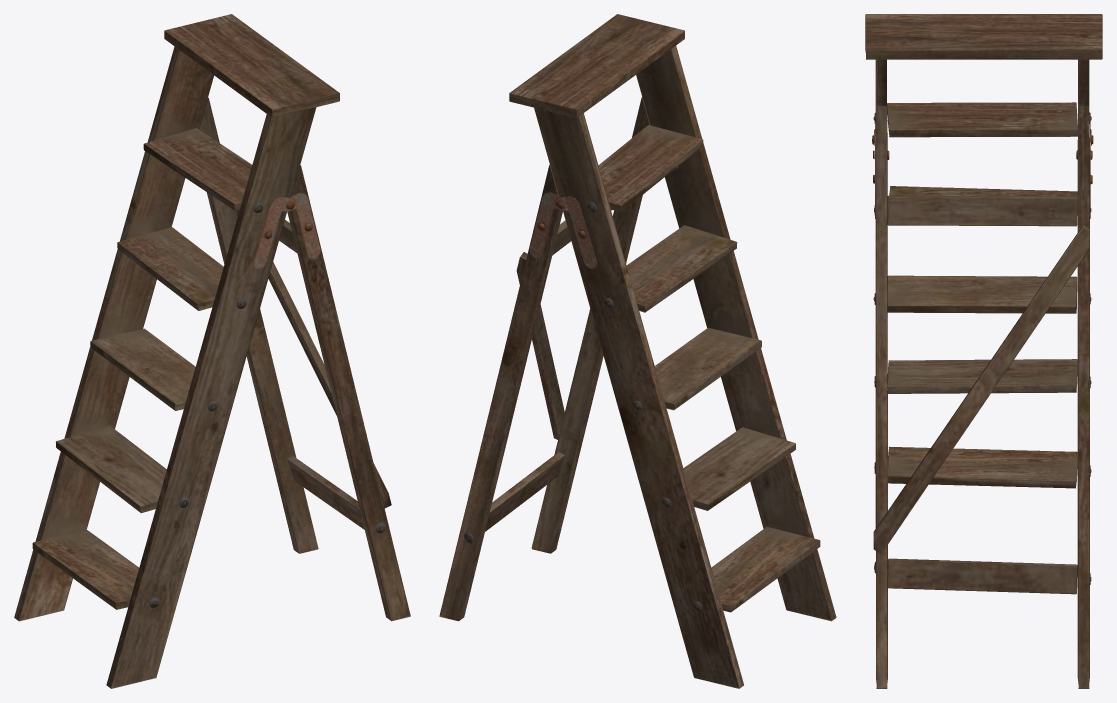
File: ladder.glb
3 views of the same model, side by side, from view 1: azimuth 30°, elevation 25°; view 2: azimuth 150°, elevation 25°; view 3: azimuth 270°, elevation 25° (orthographic). The views are drawn at different scales.
Visible parts, largest first — view 1: wooden_ladder_02; view 2: wooden_ladder_02; view 3: wooden_ladder_02.
Boxes of the visible parts, x1,y1,x2,y2 form: wooden_ladder_02: [14, 14, 410, 688]; wooden_ladder_02: [439, 14, 836, 688]; wooden_ladder_02: [865, 14, 1102, 688].
Bounding box in the file's own units: 0.9895 × 1.72 × 0.6181.
Materials: 1 (1 with a texture image).
